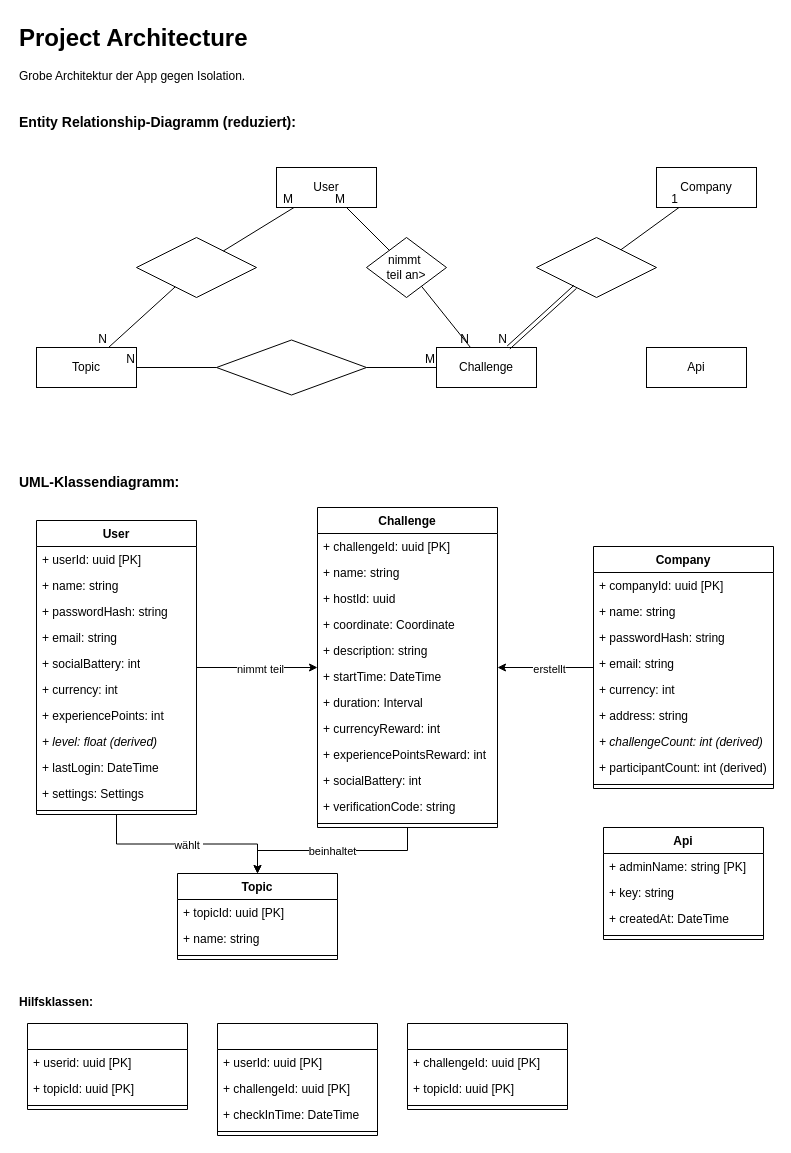
The diagram is 791 pixels wide and 1153 high, and some of its shapes have lost their labels. The shapes that lost their labels are listed below. From the top down, each one's box as (x1, y1, x2, y2) in pixels, then its label:
(136, 236, 256, 298): < zeigt Interesse an
(536, 236, 656, 298): < erstellt und verwaltet
(216, 339, 366, 395): < ist thematisch ausgerichtet nach
(26, 1022, 188, 1110): UserTopic
(216, 1022, 378, 1136): Participance
(406, 1022, 568, 1110): ChallengeTopic
